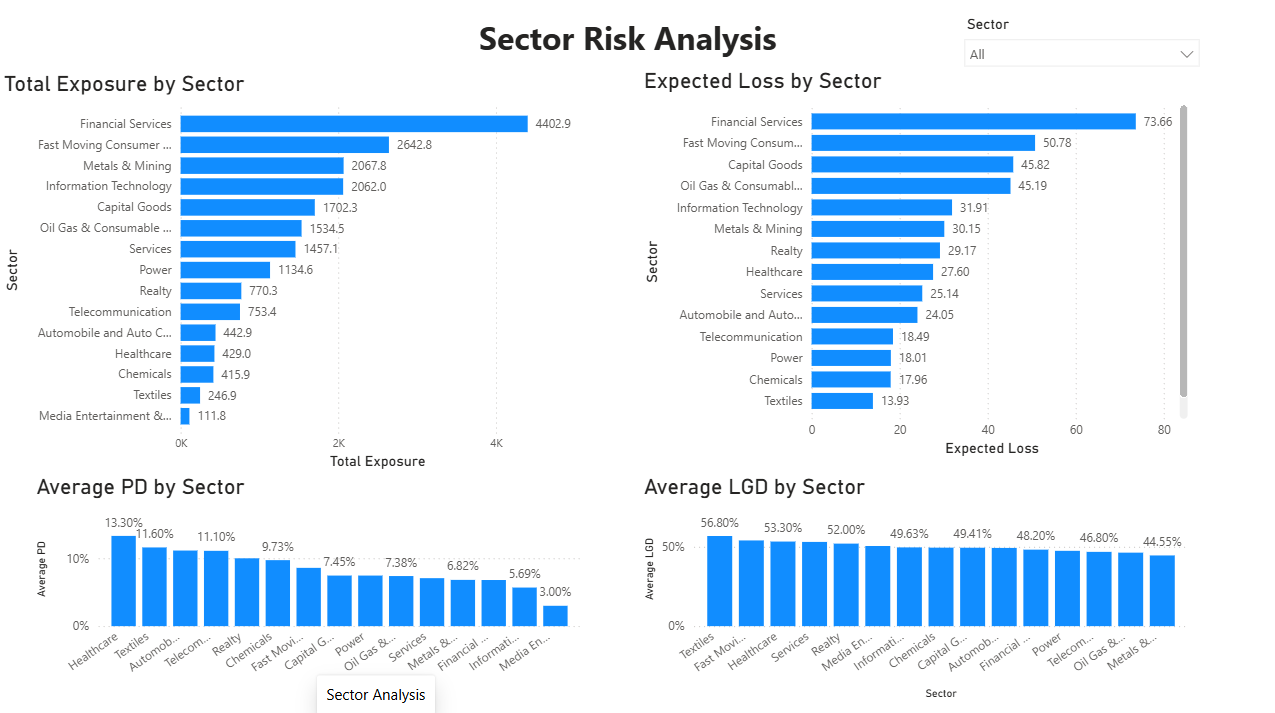

The dashboard page shown, as its layout file describes it:
{"tool":"powerbi","page":{"name":"Sector Analysis","canvas":[1280,720],"ordinal":1},"visuals":[{"type":"clusteredBarChart","fields":{"Category":["Credit_Risk_Portfolio.Sector"],"Y":["Sum(Credit_Risk_Portfolio.EAD)"]},"box":[0,72.1,587,403.5],"z":0},{"type":"clusteredBarChart","fields":{"Category":["Credit_Risk_Portfolio.Sector"],"Y":["Sum(Credit_Risk_Portfolio.Expected_Loss)"]},"box":[639.5,69.7,553.9,393.8],"z":1000},{"type":"clusteredColumnChart","fields":{"Y":["Avg(Credit_Risk_Portfolio.PD)"],"Category":["Credit_Risk_Portfolio.Sector"]},"box":[33,475.7,553.9,229.9],"z":2000},{"type":"clusteredColumnChart","fields":{"Y":["Avg(Credit_Risk_Portfolio.LGD)"],"Category":["Credit_Risk_Portfolio.Sector"]},"box":[639.5,475.7,553.9,229.9],"z":3000},{"type":"textbox","box":[474.5,12.2,380.3,57.5],"z":4000},{"type":"slicer","fields":{"Values":["Credit_Risk_Portfolio.Sector"]},"box":[955,12.2,255.6,59.9],"z":5000}]}

Visuals, with their boxes in screenshot pixels (x1, y1, x2, y2), scaled from the page's 1280x720 canvas onto the 1275x713 screenshot:
clusteredBarChart - Credit_Risk_Portfolio.Sector x Sum(Credit_Risk_Portfolio.EAD): (0, 71, 585, 471)
clusteredBarChart - Credit_Risk_Portfolio.Sector x Sum(Credit_Risk_Portfolio.Expected_Loss): (637, 69, 1189, 459)
clusteredColumnChart - Avg(Credit_Risk_Portfolio.PD) x Credit_Risk_Portfolio.Sector: (33, 471, 585, 699)
clusteredColumnChart - Avg(Credit_Risk_Portfolio.LGD) x Credit_Risk_Portfolio.Sector: (637, 471, 1189, 699)
textbox: (473, 12, 851, 69)
slicer - Credit_Risk_Portfolio.Sector: (951, 12, 1206, 71)
